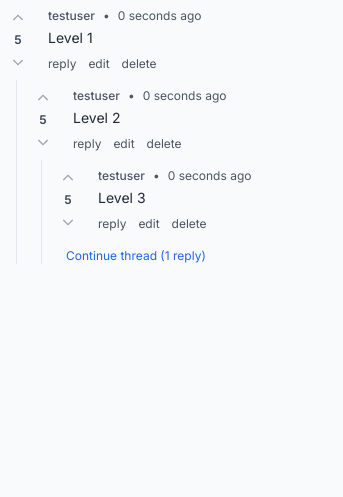
CommentThread › Deep Nesting Optimization - Requirement 22.2 › should expand deeply nested thread when "Continue thread" is clicked
The image size is (343, 497).
Expected: the text "Level 4" is not shown
Expected: the text "Level 5" is not shown
# Click "Continue thread"
Click the button "Continue thread (1 reply)" at (136, 256), box left=66, top=248, right=206, bottom=264
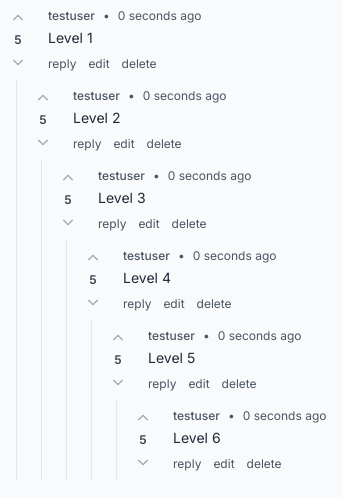
Now the text "Level 4" is shown, box left=123, top=269, right=171, bottom=286
Now the text "Level 5" is shown, box left=148, top=349, right=195, bottom=366
Now the text "Level 6" is shown, box left=173, top=429, right=221, bottom=446
